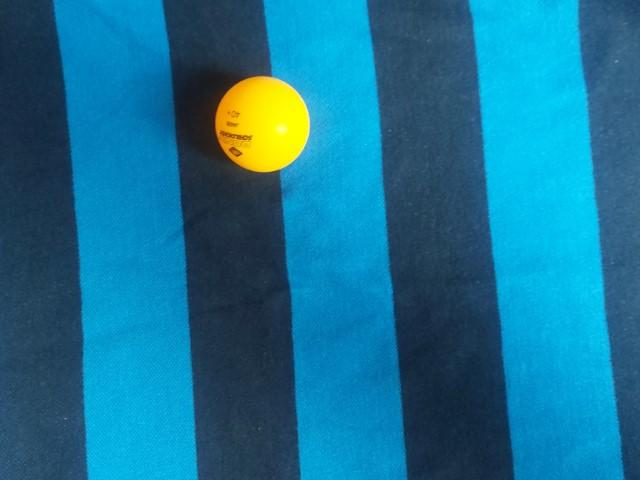oball: (327, 302, 433, 409)
